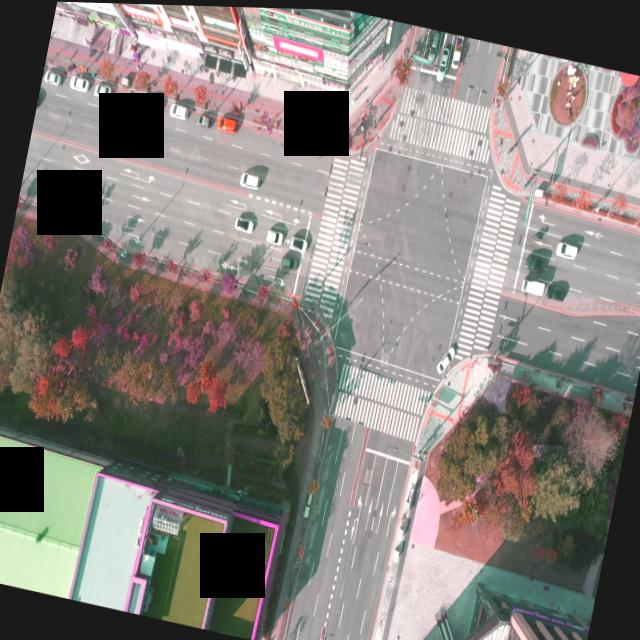car: (436, 338, 458, 374), (434, 42, 450, 79), (426, 26, 441, 59), (545, 280, 567, 302), (216, 114, 238, 134), (555, 236, 577, 255), (143, 93, 165, 112), (168, 101, 190, 120), (239, 169, 260, 188), (233, 215, 255, 233), (70, 76, 90, 93), (265, 227, 283, 245), (526, 253, 546, 269), (94, 83, 112, 100), (290, 234, 308, 251), (44, 71, 62, 87), (198, 113, 214, 128), (282, 254, 296, 268)
small_truck: (449, 31, 465, 67), (518, 273, 546, 293)
